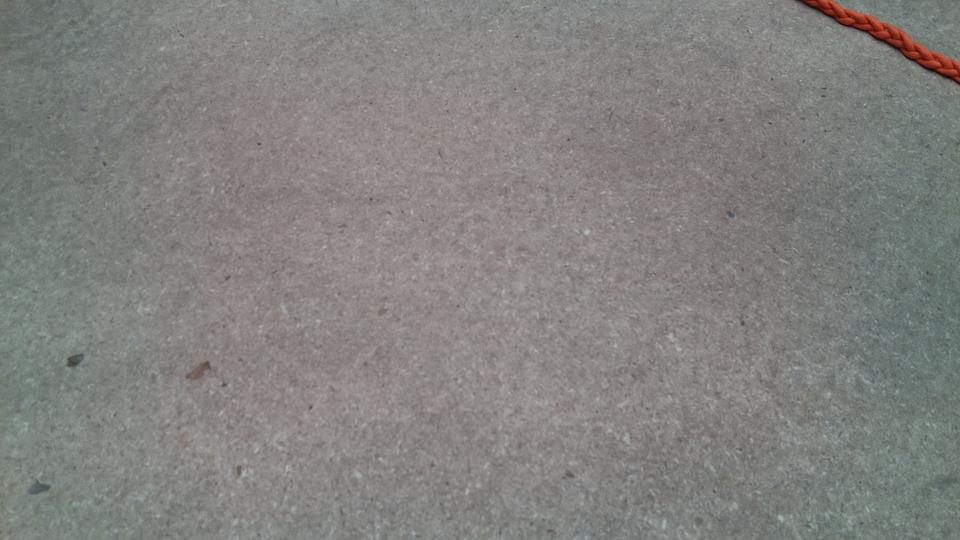rope: (805, 1, 960, 82)
